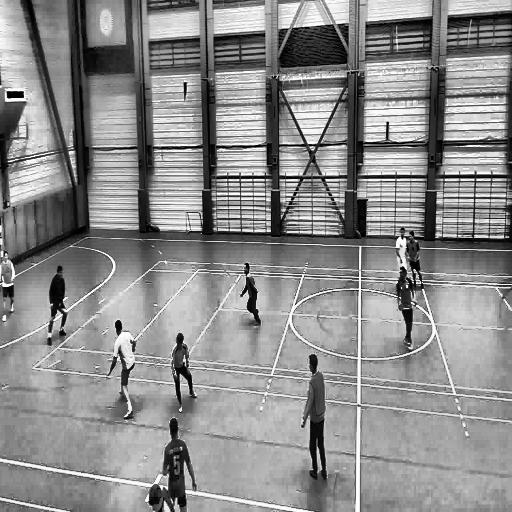player: (298, 351, 332, 486), (106, 320, 139, 423), (167, 332, 198, 414), (396, 266, 419, 358), (46, 262, 70, 348), (239, 259, 264, 329), (0, 249, 17, 322), (407, 231, 425, 290), (395, 226, 407, 266)
